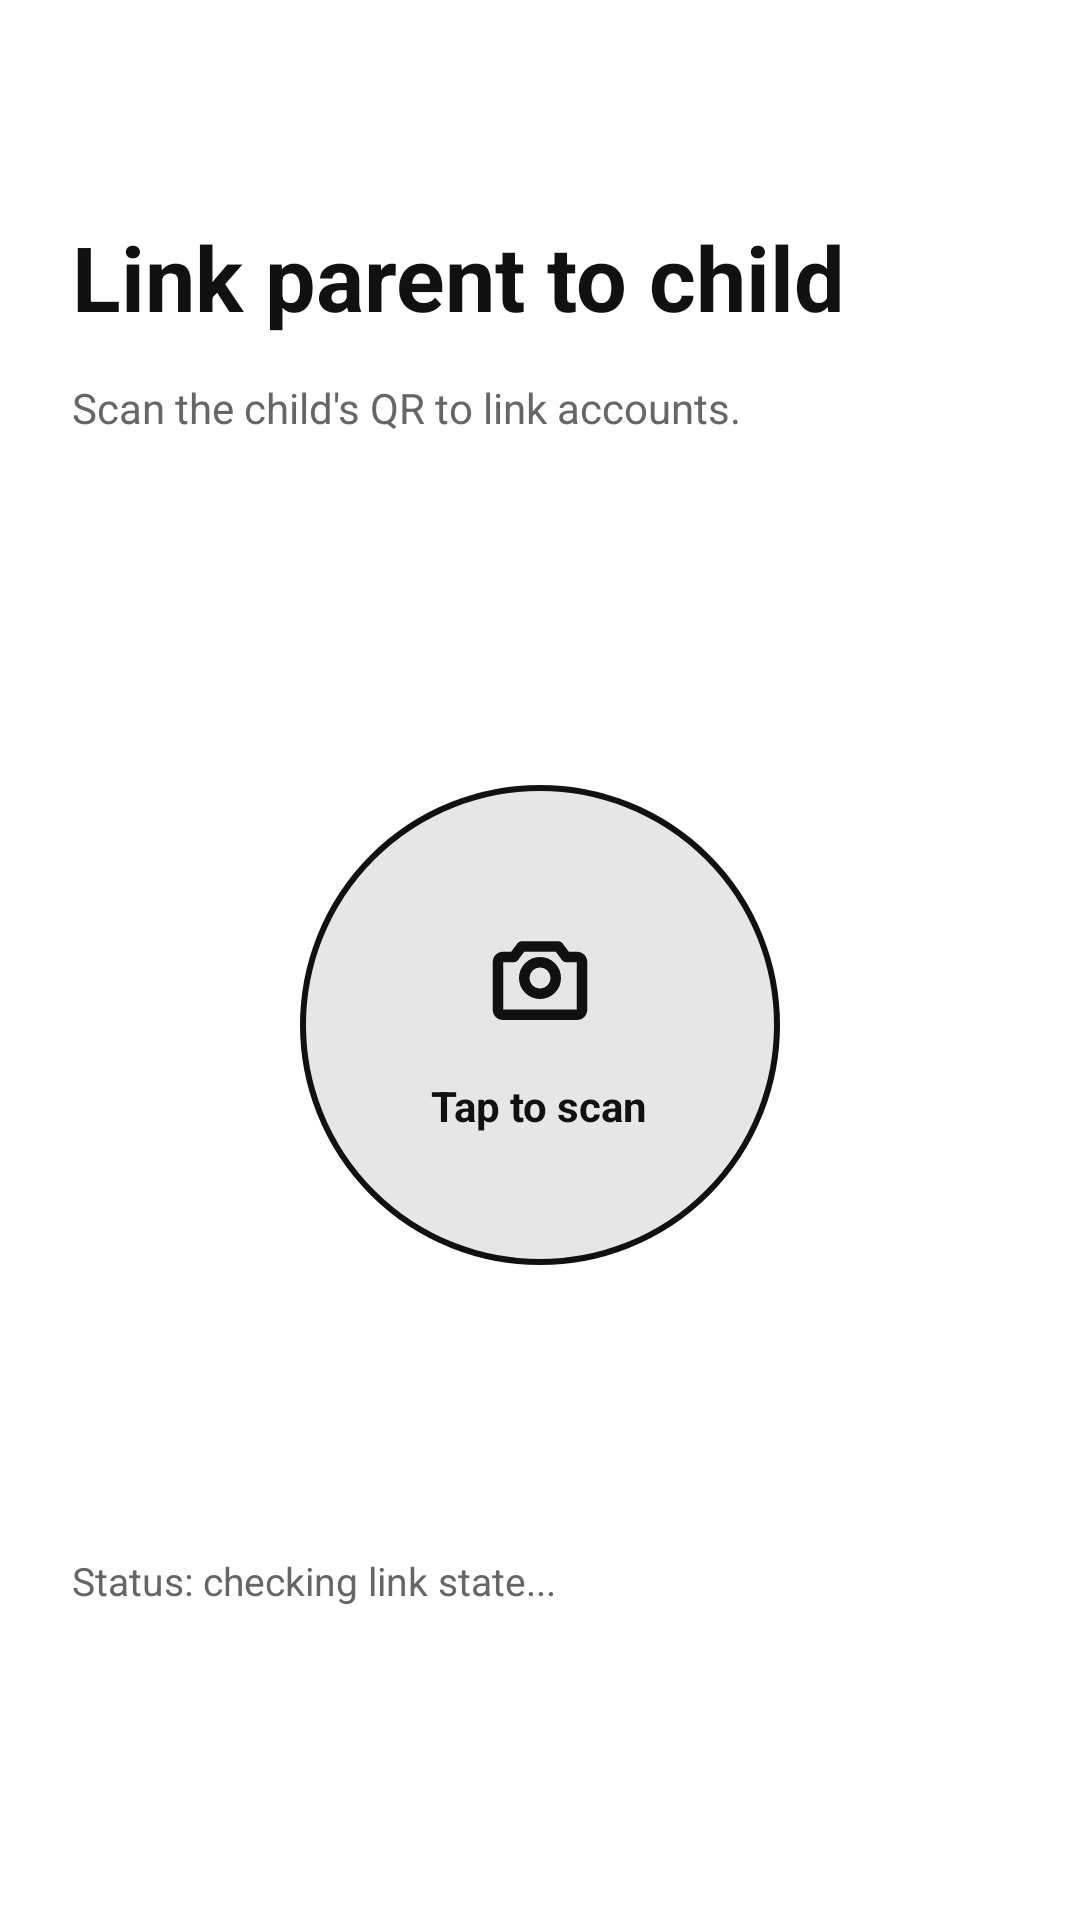

Icons on this 1080x1920 Android screen, each with its box as [left=x1, top=y1, right=x2, bottom=y2]:
Open scanner: [left=492, top=941, right=588, bottom=1020]
